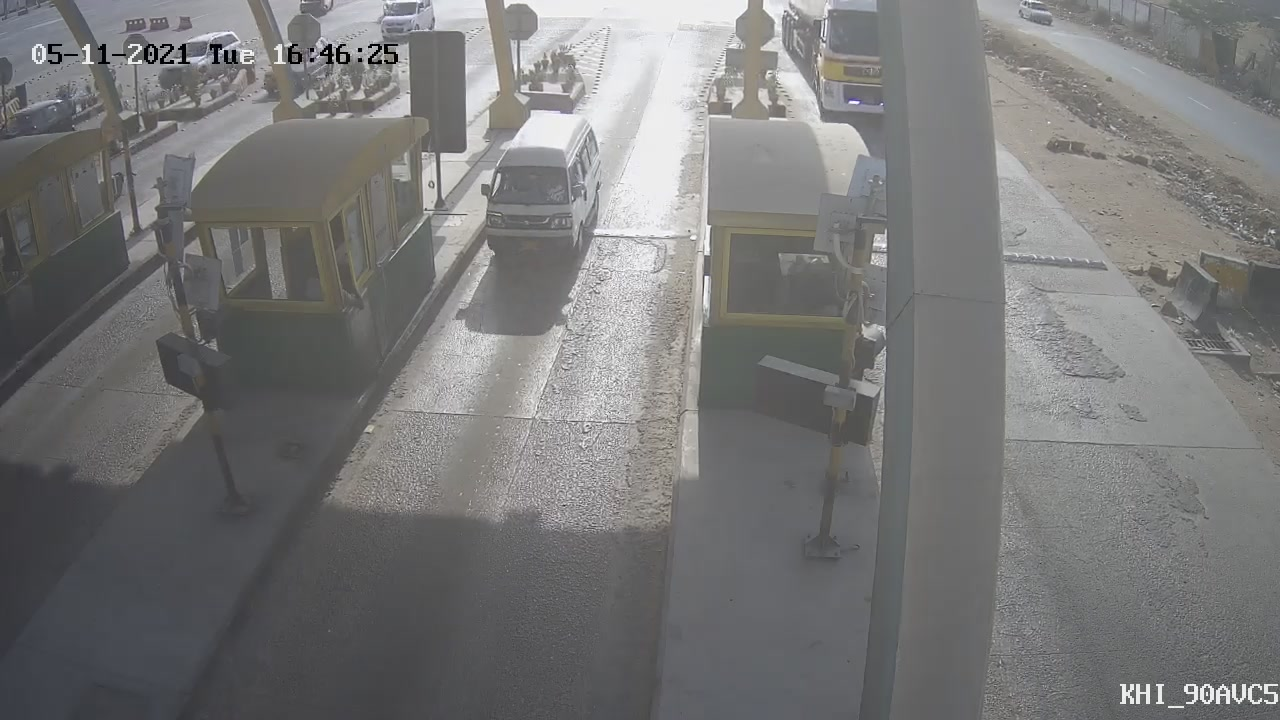F1: (461, 91, 621, 282)
